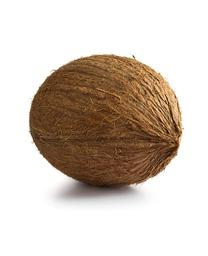coconut: (30, 56, 184, 187)
